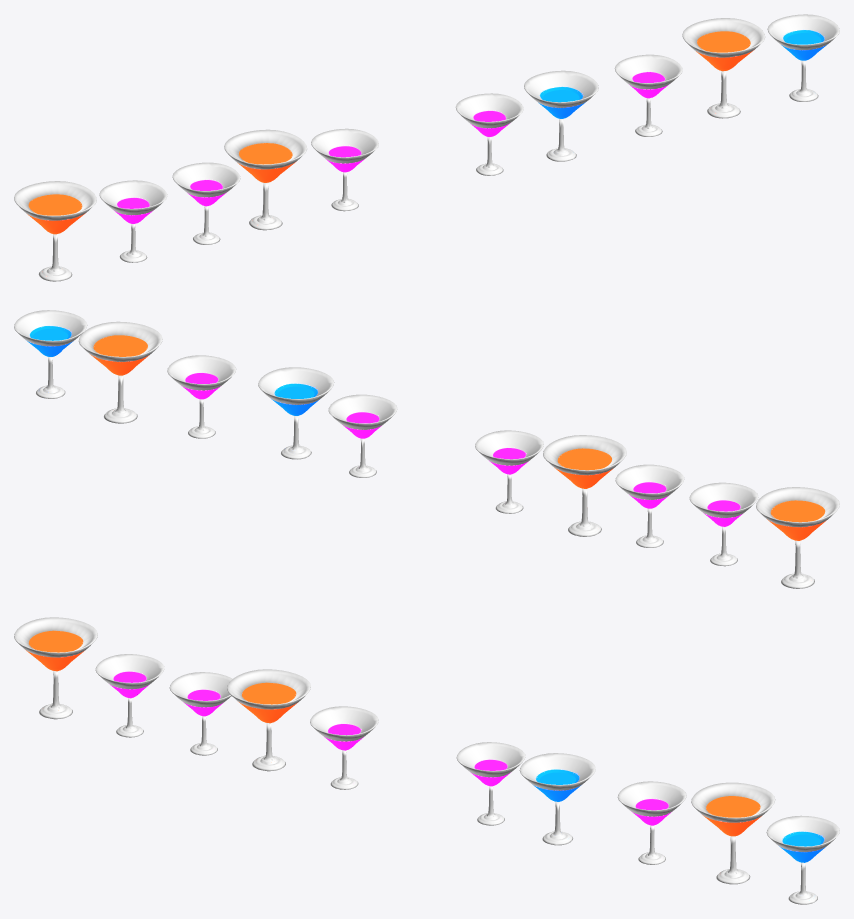
File: drineczki_re.fbx
The picture shows the model from 3 angles, top to bottom: view 1: azimuth 30°, elevation 25°; view 2: azimuth 150°, elevation 25°; view 3: azimuth 330°, elevation 25°; orthographic projection.
Parts seen in each view (by area): view 1: drink2_Baked, drink2_Baked.002, drink2_Baked.001, drink1_Baked.001, drink1_Baked, drink3_Baked.001, drink3_Baked, drink3_Baked.003, drink3_Baked.004, drink3_Baked.002; view 2: drink2_Baked, drink2_Baked.001, drink2_Baked.002, drink1_Baked.001, drink1_Baked, drink3_Baked, drink3_Baked.002, drink3_Baked.003, drink3_Baked.001, drink3_Baked.004; view 3: drink2_Baked, drink2_Baked.002, drink2_Baked.001, drink1_Baked.001, drink1_Baked, drink3_Baked.002, drink3_Baked, drink3_Baked.001, drink3_Baked.004, drink3_Baked.003.
Boxes of the visible parts, left/top/right/bottom form: drink2_Baked: left=682, top=18, right=765, bottom=118; drink2_Baked.002: left=224, top=129, right=306, bottom=230; drink2_Baked.001: left=14, top=181, right=96, bottom=281; drink1_Baked.001: left=524, top=70, right=598, bottom=161; drink1_Baked: left=767, top=14, right=839, bottom=101; drink3_Baked.001: left=455, top=93, right=523, bottom=175; drink3_Baked: left=614, top=54, right=682, bottom=136; drink3_Baked.003: left=172, top=162, right=240, bottom=244; drink3_Baked.004: left=99, top=180, right=167, bottom=262; drink3_Baked.002: left=311, top=128, right=378, bottom=211; drink2_Baked: left=78, top=321, right=162, bottom=423; drink2_Baked.001: left=756, top=487, right=839, bottom=588; drink2_Baked.002: left=543, top=435, right=626, bottom=536; drink1_Baked.001: left=258, top=367, right=334, bottom=459; drink1_Baked: left=14, top=310, right=87, bottom=398; drink3_Baked: left=167, top=355, right=236, bottom=438; drink3_Baked.002: left=475, top=430, right=543, bottom=513; drink3_Baked.003: left=615, top=464, right=684, bottom=547; drink3_Baked.001: left=328, top=394, right=397, bottom=477; drink3_Baked.004: left=689, top=482, right=758, bottom=566; drink2_Baked: left=691, top=782, right=775, bottom=884; drink2_Baked.002: left=227, top=669, right=310, bottom=771; drink2_Baked.001: left=14, top=617, right=97, bottom=719; drink1_Baked.001: left=519, top=753, right=595, bottom=845; drink1_Baked: left=766, top=815, right=839, bottom=904; drink3_Baked.002: left=310, top=706, right=378, bottom=789; drink3_Baked: left=617, top=781, right=686, bottom=864; drink3_Baked.001: left=456, top=742, right=525, bottom=825; drink3_Baked.004: left=95, top=654, right=164, bottom=737; drink3_Baked.003: left=169, top=672, right=232, bottom=755.
Size of the model in its own units: 1438 by 130 by 136.
Materials: 3 (3 with a texture image).
